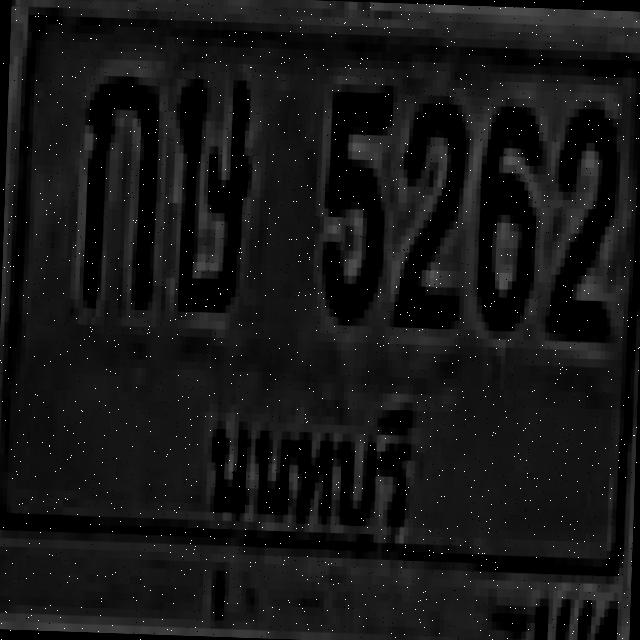10GorGai: (78, 66, 156, 302)
2: (544, 100, 614, 334), (394, 90, 462, 316)
48SorRueSi: (169, 70, 246, 304)
5: (318, 84, 387, 318)
6: (472, 97, 536, 323)
Nonthaburi: (194, 363, 430, 558)
